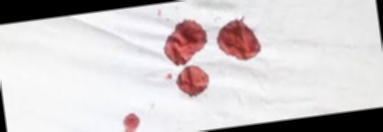blood: (161, 17, 211, 68), (214, 15, 258, 62), (174, 64, 211, 97), (115, 111, 145, 132)
